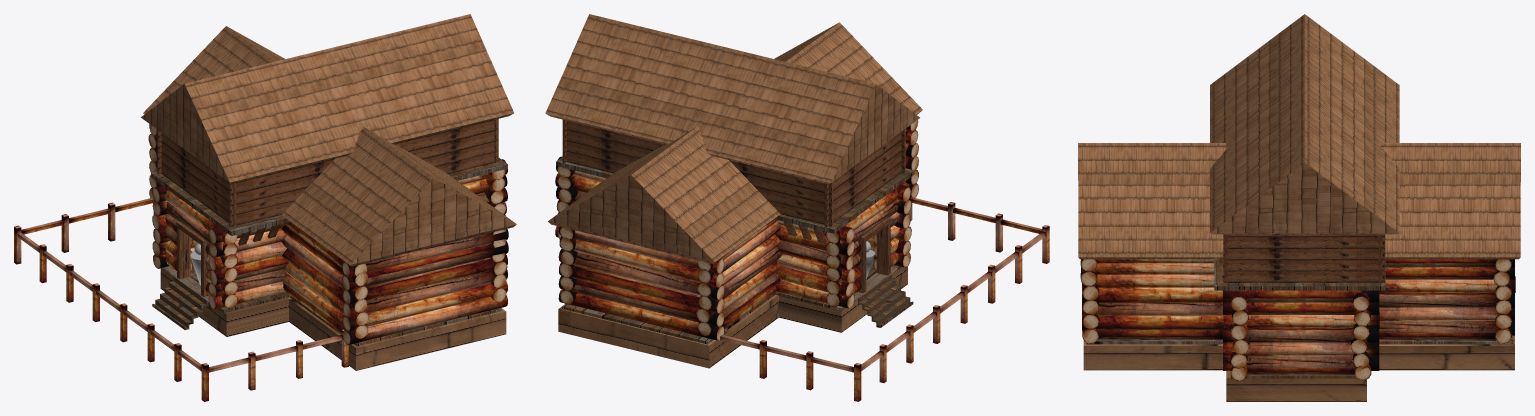
File: residentional_building_lvl3_ver_001.fbx
3 views of the same model, side by side, from view 1: azimuth 30°, elevation 25°; view 2: azimuth 150°, elevation 25°; view 3: azimuth 270°, elevation 25° (orthographic). The views are drawn at different scales.
Parts seen in each view (by area): view 1: residentional_building_3_lvl2; view 2: residentional_building_3_lvl2; view 3: residentional_building_3_lvl2.
Boxes of the visible parts, x1,y1,x2,y2 form: residentional_building_3_lvl2: (14, 14, 516, 401); residentional_building_3_lvl2: (545, 14, 1049, 401); residentional_building_3_lvl2: (1078, 14, 1520, 401).
Bounding box in the file's own units: 159 × 95.49 × 157.
